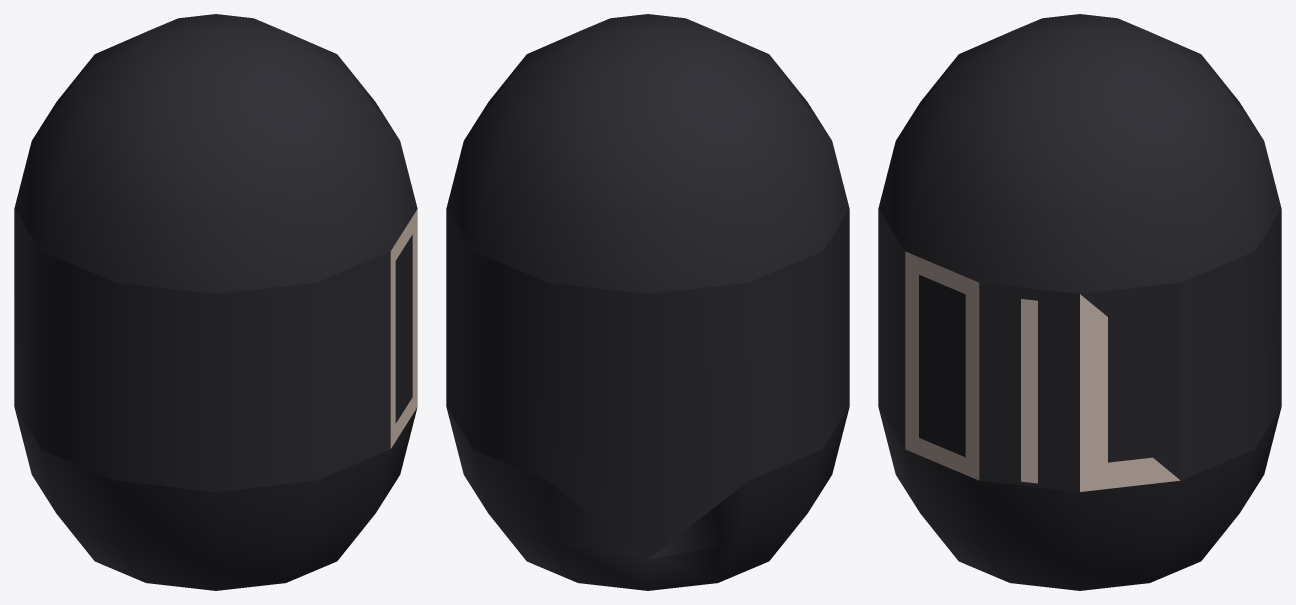
Rendered from Oil Tank.FBX.
The picture shows the model from 3 angles, left to right: view 1: azimuth 30°, elevation 25°; view 2: azimuth 150°, elevation 25°; view 3: azimuth 270°, elevation 25°; orthographic projection.
Parts seen in each view (by area): view 1: American crude; view 2: American crude; view 3: American crude.
Boxes of the visible parts, x1,y1,x2,y2 form: American crude: (14, 14, 417, 590); American crude: (446, 14, 849, 590); American crude: (878, 14, 1281, 590).
Size of the model in its own units: 164 by 225 by 164.
